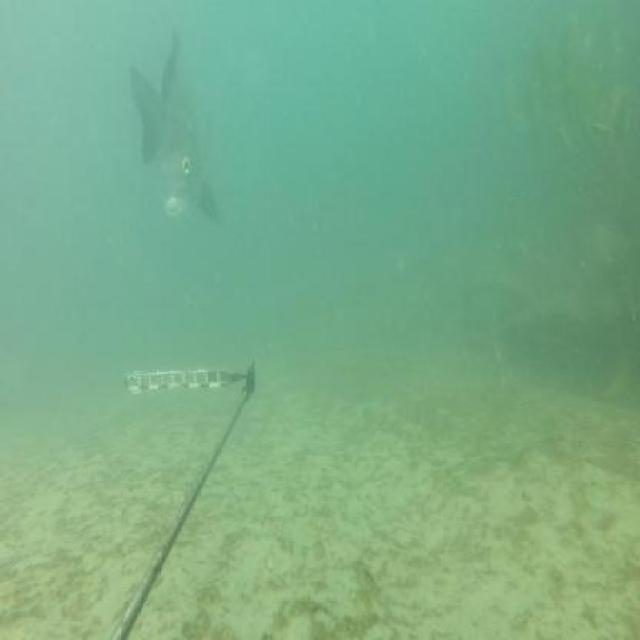acanthopagrus_palmaris: (128, 26, 222, 228)
